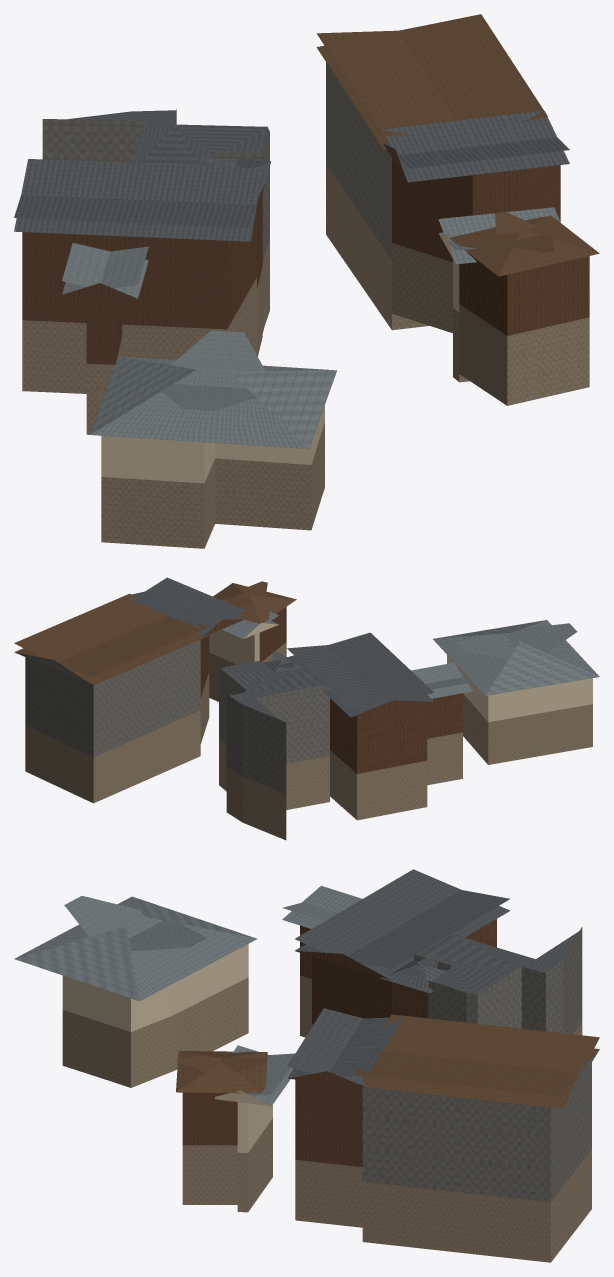
The model's file is bld_c43_31_269.gltf.
3 renders of one model, top to bottom at view 1: azimuth 30°, elevation 25°; view 2: azimuth 150°, elevation 25°; view 3: azimuth 270°, elevation 25°, orthographic. The views are drawn at different scales.
Parts seen in each view (by area): view 1: bld_c43_31_269; view 2: bld_c43_31_269; view 3: bld_c43_31_269.
Boxes of the visible parts, <box> form: bld_c43_31_269: <box>14,14,599,548</box>; bld_c43_31_269: <box>14,577,599,840</box>; bld_c43_31_269: <box>14,869,599,1262</box>.
Bounding box in the file's own units: 48.44 × 14.3 × 44.71.
10 materials, 10 textured.
